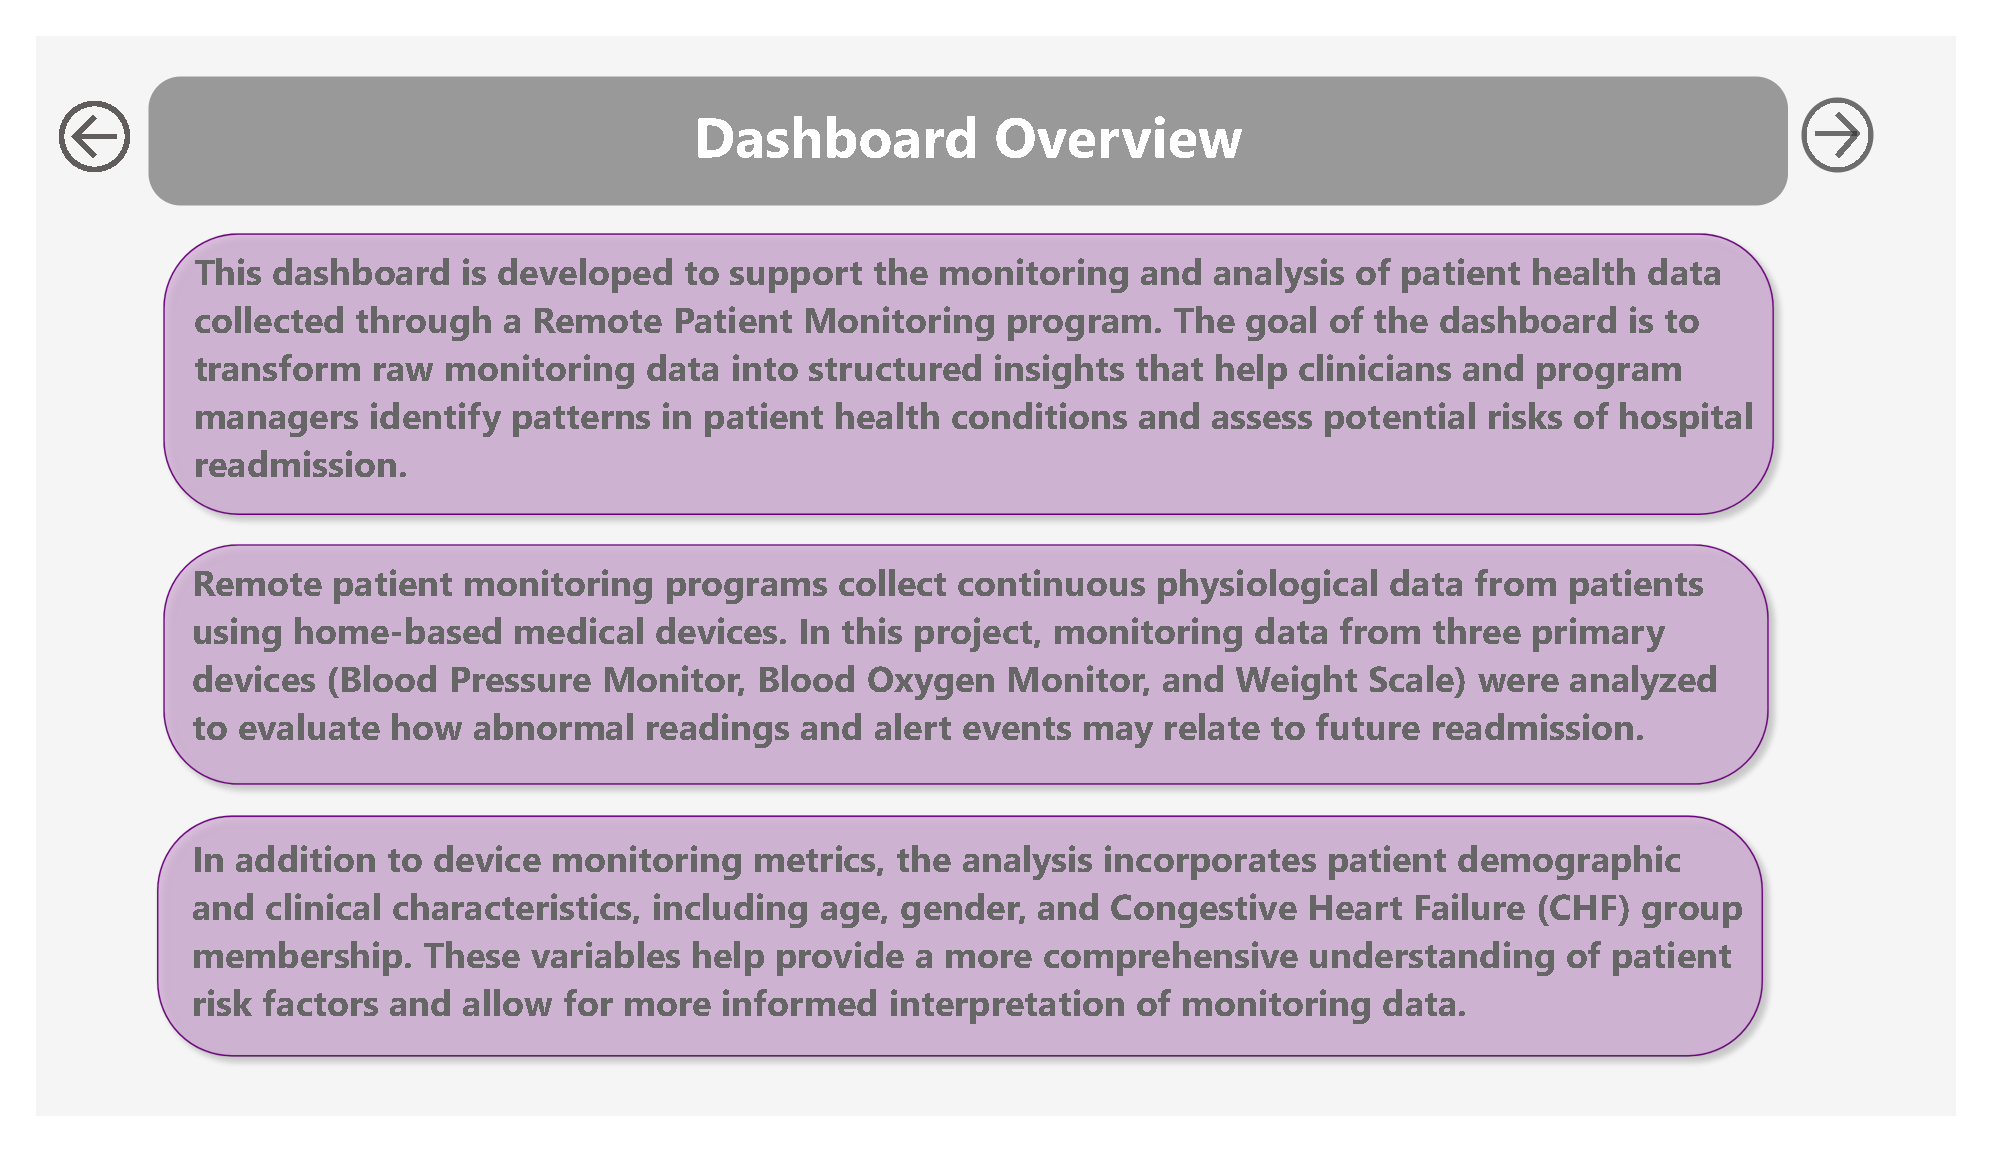

This screenshot's page, from the dashboard's own definition file:
{"tool":"powerbi","page":{"name":"Dashboard Overview","canvas":[1280,720],"ordinal":1},"visuals":[{"type":"shape","title":"Full Background","box":[0,0,1280.7,720.3],"z":1000},{"type":"group","id":"g1","title":"Grouped Boxes","box":[71.6,122.7,1095.4,566],"z":2000},{"type":"shape","box":[71.6,510.6,1088,178.1],"z":2000,"group":"g1"},{"type":"shape","box":[75.8,329.5,1088,178.1],"z":2250,"group":"g1"},{"type":"shape","box":[75.8,122.7,1091.2,205.2],"z":2500,"group":"g1"},{"type":"shape","title":"Header","box":[74.8,27,1092.7,85.9],"z":3000},{"type":"textbox","box":[99.2,36.1,1044.3,67.7],"z":4000},{"type":"shape","box":[1177.2,41.8,48.5,49.6],"z":6000,"group":"g2"},{"type":"textbox","box":[93.8,135.2,1065.7,187.7],"z":6000},{"type":"actionButton","box":[1180.6,39.5,66.5,54.1],"z":7000,"group":"g2"},{"type":"textbox","box":[98.6,342,1045,165.4],"z":7000},{"type":"actionButton","box":[9,37.2,65.4,59.8],"z":8000},{"type":"group","id":"g2","title":"Group 1","box":[1177.2,39.5,69.9,54.1],"z":9000},{"type":"textbox","box":[98.6,526.5,1045,162.2],"z":10000}]}

Visuals, with their boxes in screenshot pixels (x1, y1, x2, y2), scaled from the page's 1280x720 canvas onto the 1992x1152 screenshot:
"Full Background" shape: crop(0, 0, 1991, 1151)
"Grouped Boxes" group: crop(111, 196, 1816, 1102)
shape: crop(111, 817, 1805, 1102)
shape: crop(118, 527, 1811, 812)
shape: crop(118, 196, 1816, 525)
"Header" shape: crop(116, 43, 1817, 181)
textbox: crop(154, 58, 1780, 166)
shape: crop(1832, 67, 1907, 146)
textbox: crop(146, 216, 1804, 517)
actionButton: crop(1837, 63, 1941, 150)
textbox: crop(153, 547, 1780, 812)
actionButton: crop(14, 60, 116, 155)
"Group 1" group: crop(1832, 63, 1941, 150)
textbox: crop(153, 842, 1780, 1102)
